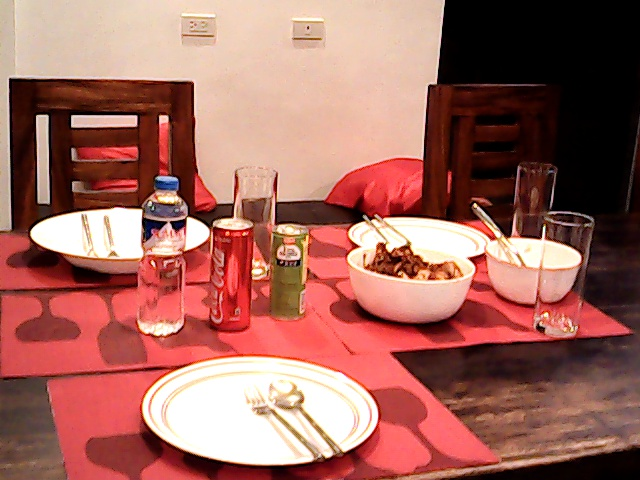Cola: (201, 213, 258, 338)
Pine Juice: (267, 213, 314, 329)
Summit Water: (133, 171, 192, 335)
